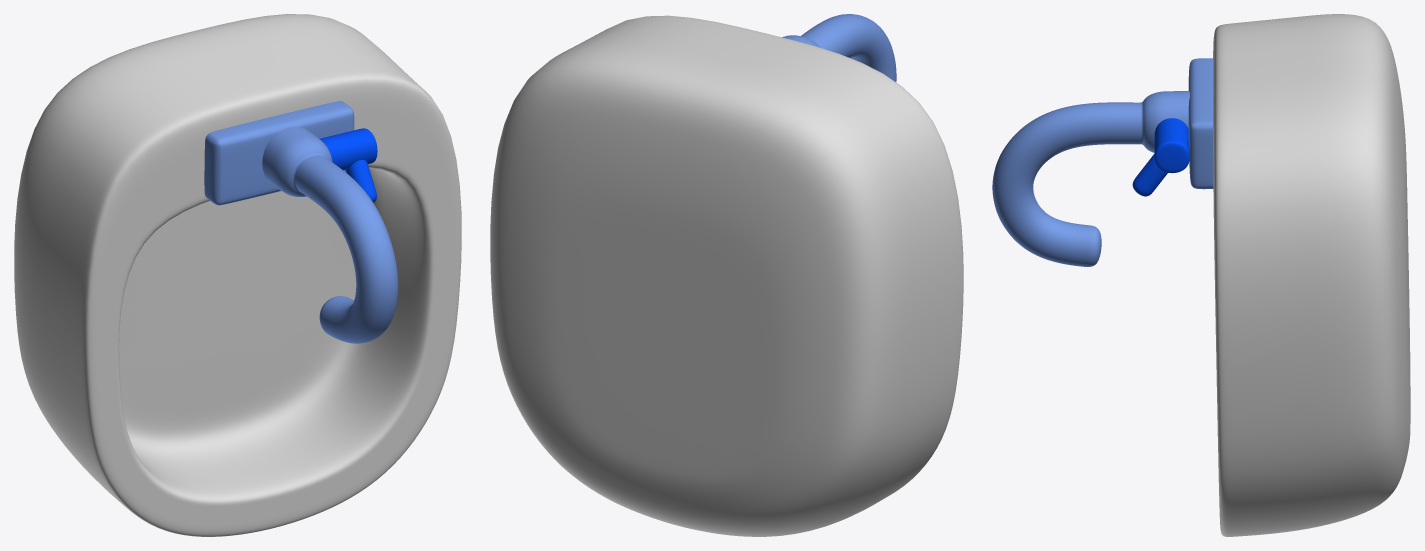
File: 16. Wastafel.gltf
The picture shows the model from 3 angles, left to right: view 1: azimuth 30°, elevation 25°; view 2: azimuth 150°, elevation 25°; view 3: azimuth 270°, elevation 25°; orthographic projection. The views are drawn at different scales.
Visible parts, largest first — view 1: Cube.014, Plane.052, Plane.053, Plane.054, Plane.055; view 2: Cube.014, Plane.052; view 3: Cube.014, Plane.052, Plane.053, Plane.054, Plane.055.
Part boxes in pixels (left/top/right/bottom): Cube.014: left=14, top=14, right=461, bottom=536; Plane.052: left=262, top=127, right=398, bottom=343; Plane.053: left=204, top=101, right=354, bottom=205; Plane.054: left=320, top=128, right=377, bottom=170; Plane.055: left=345, top=160, right=376, bottom=202; Cube.014: left=490, top=15, right=963, bottom=536; Plane.052: left=782, top=14, right=896, bottom=82; Cube.014: left=1213, top=14, right=1410, bottom=536; Plane.052: left=992, top=91, right=1189, bottom=266; Plane.053: left=1188, top=58, right=1213, bottom=189; Plane.054: left=1154, top=118, right=1189, bottom=173; Plane.055: left=1132, top=153, right=1167, bottom=196.
Size of the model in its own units: 4.03 by 4.59 by 3.86.
